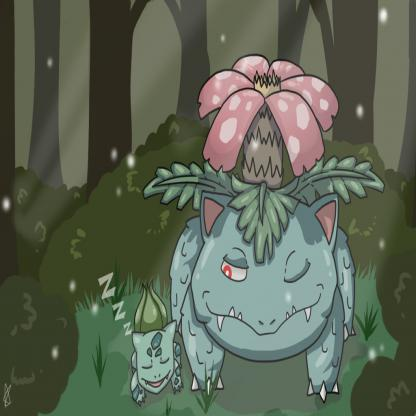Venusaur: (175, 40, 359, 406)
